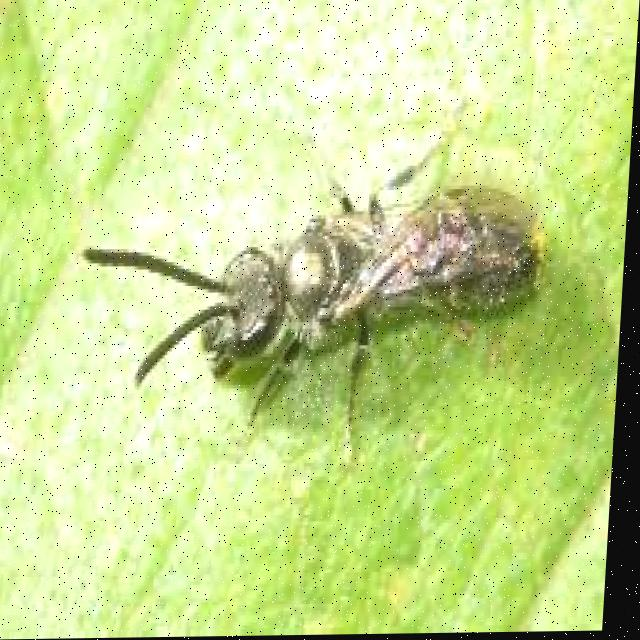Lasioglossum: (77, 168, 563, 426)
